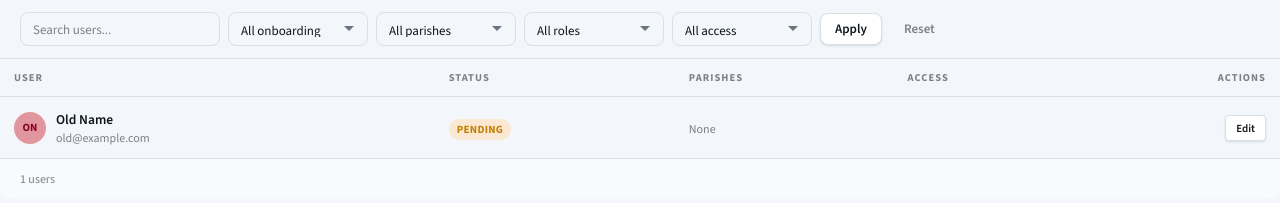
AdminUserDirectoryManager › keeps newer filter results when an older request resolves last
Type "first" into the field with placeholder "Search users...". click: [120, 29]
box: [20,12,220,46]
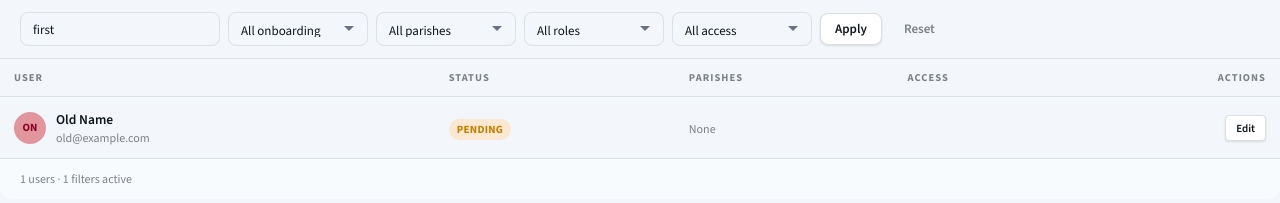
Click the button "Apply". click: [851, 29]
box: [820,13,882,45]
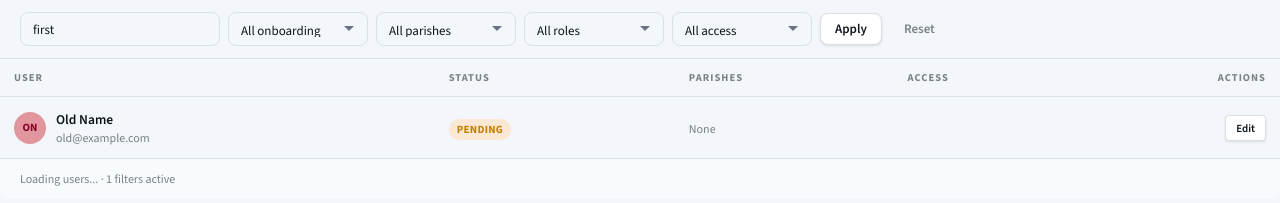
Replace the text in the field with placeholder "Search users..." with "second". click: [120, 29]
box: [20,12,220,46]
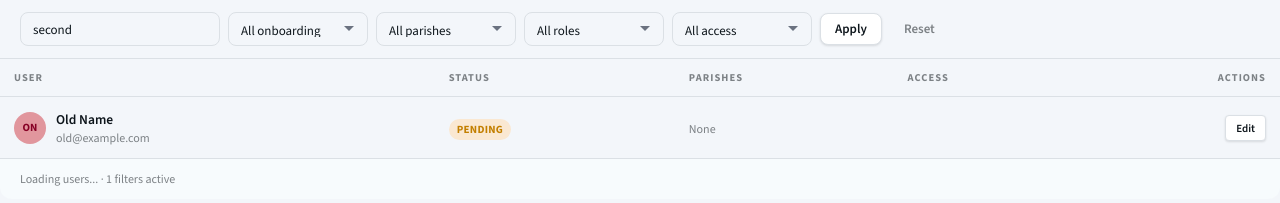
Click the button "Apply". click: [851, 29]
box: [820,13,882,45]
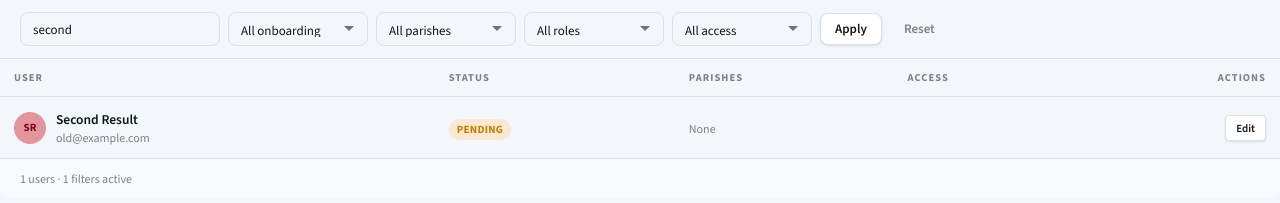
Result: the text "Second Result" is shown at [56,109,150,130]
